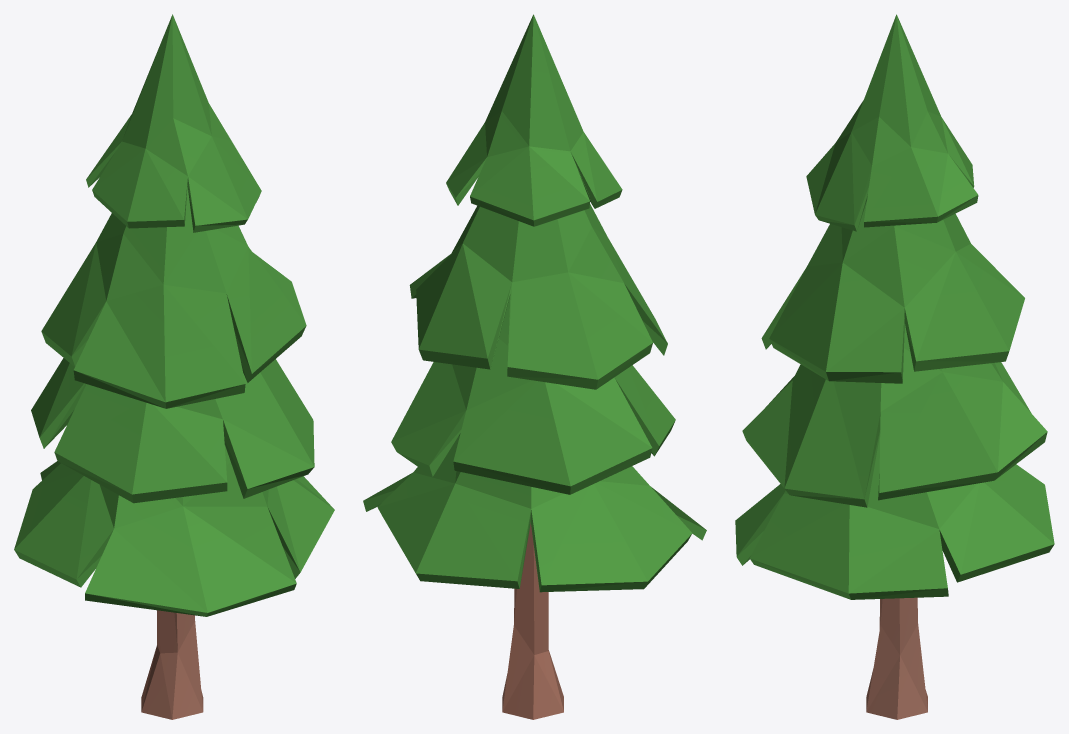
The model's file is sapin-5.glb.
The picture shows the model from 3 angles, left to right: view 1: azimuth 30°, elevation 25°; view 2: azimuth 150°, elevation 25°; view 3: azimuth 270°, elevation 25°; orthographic projection.
Parts seen in each view (by area): view 1: fir_001; view 2: fir_001; view 3: fir_001.
Boxes of the visible parts, bbox=[...] form: fir_001: bbox=[14, 14, 334, 719]; fir_001: bbox=[363, 14, 706, 719]; fir_001: bbox=[735, 14, 1054, 719].
Size of the model in its own units: 2.63 by 6.18 by 2.59.
1 material, 1 textured.
